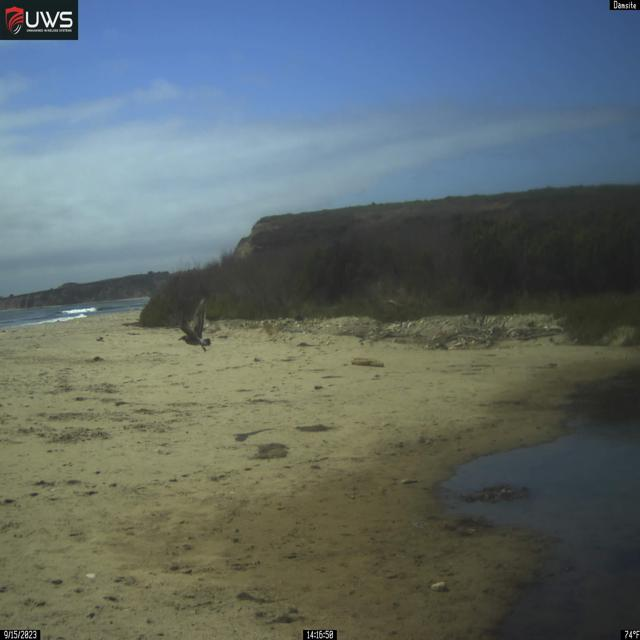bird: (178, 297, 209, 352)
